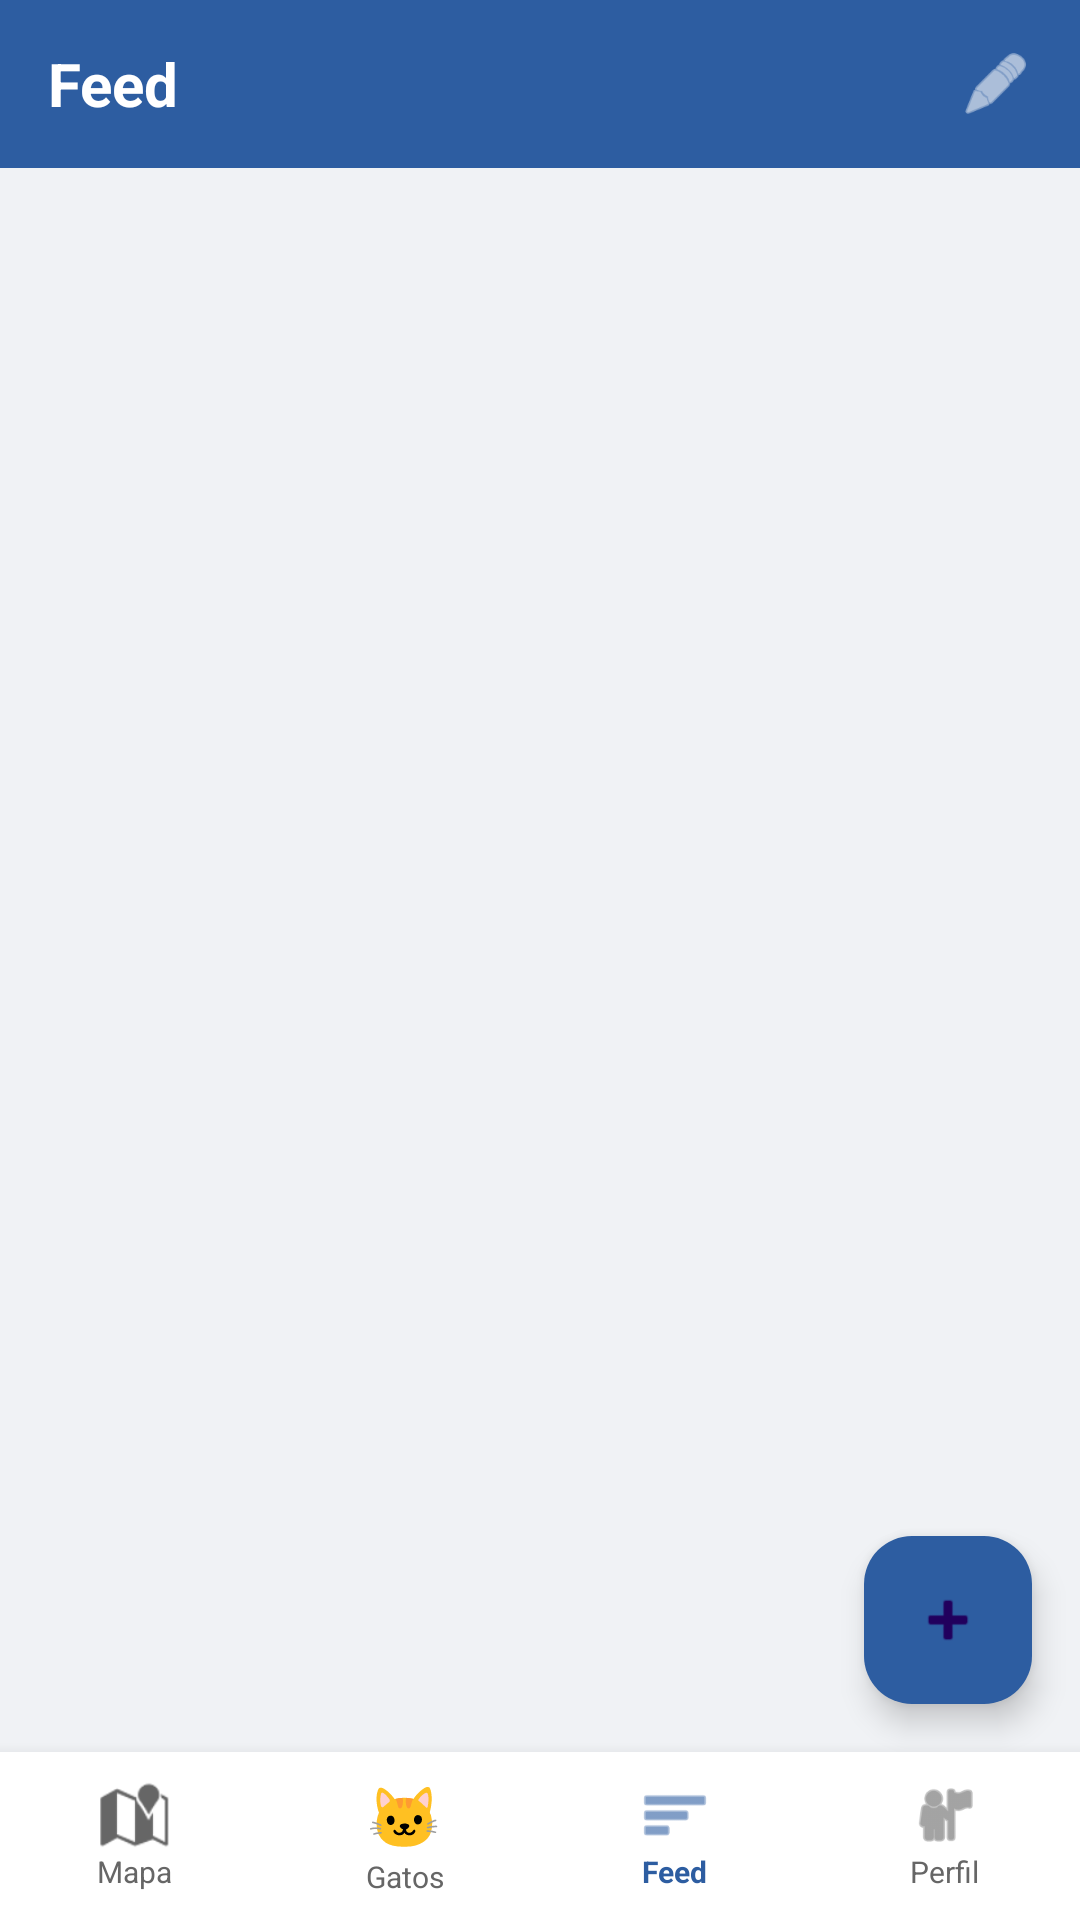

Icon click points for this 1080px x 1920px phone screenshot, format point (x, y):
edit: point (995, 83)
myplaces: point (946, 1815)
Novo Post: point (948, 1620)
sort by size: point (675, 1815)
